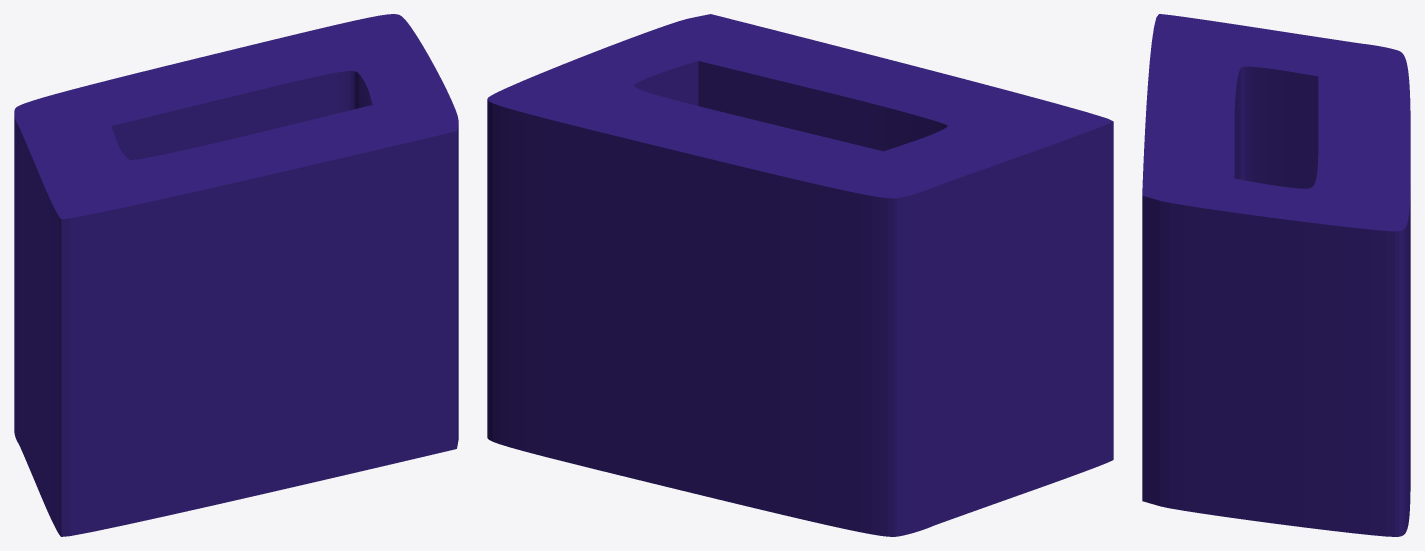
Rendered from dash.glb.
3 renders of one model, left to right at view 1: azimuth 30°, elevation 25°; view 2: azimuth 150°, elevation 25°; view 3: azimuth 270°, elevation 25°, orthographic. The views are drawn at different scales.
Visible parts, largest first — view 1: Curve.010; view 2: Curve.010; view 3: Curve.010.
Boxes of the visible parts, x1=… form: Curve.010: x1=14, y1=14, x2=458, y2=536; Curve.010: x1=487, y1=14, x2=1113, y2=536; Curve.010: x1=1142, y1=14, x2=1410, y2=536.
Size of the model in its own units: 0.4991 by 0.3271 by 0.2605.
